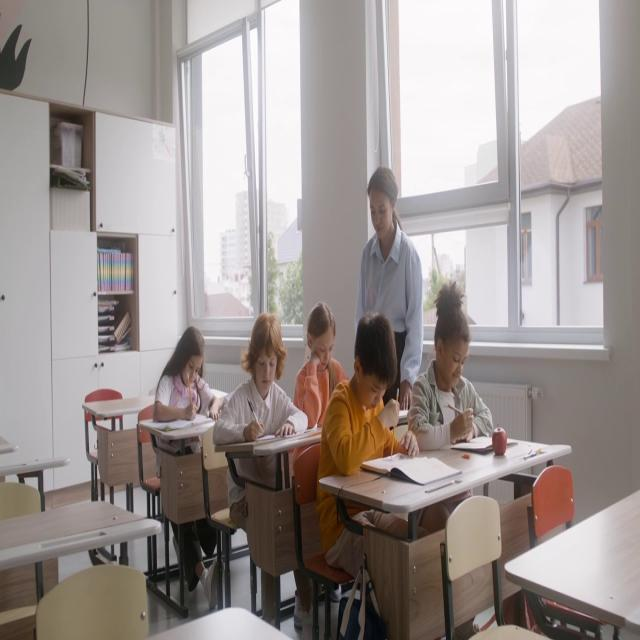reading: (299, 303, 350, 435)
turning: (407, 284, 491, 454)
writing: (313, 313, 411, 634), (215, 312, 306, 474), (154, 326, 219, 458)
